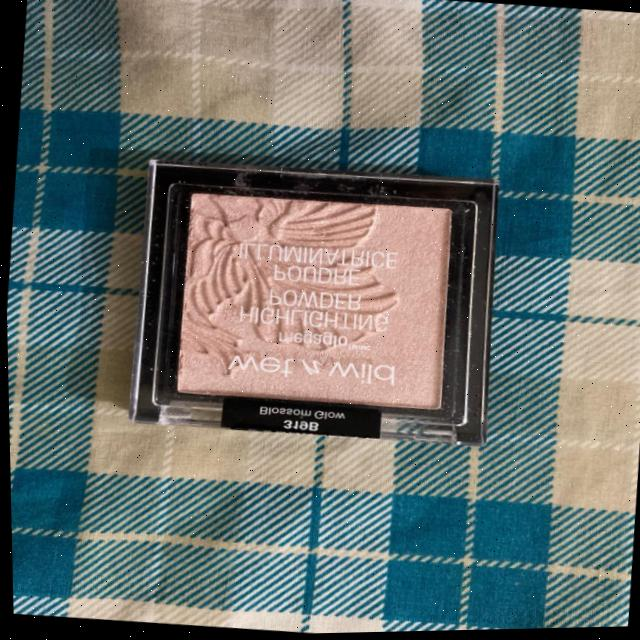powder: (108, 135, 525, 490)
